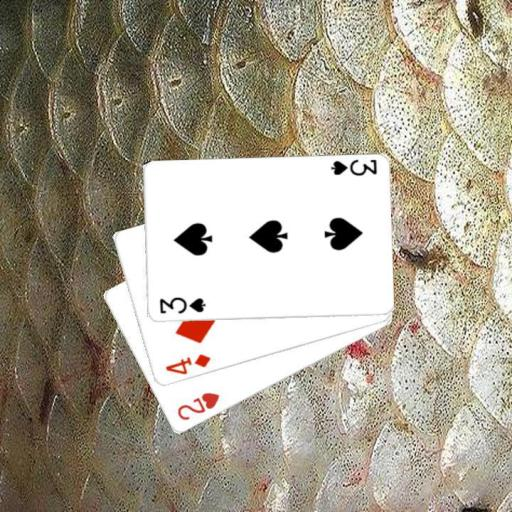2H: (174, 389, 221, 422)
3S: (327, 156, 378, 178), (156, 294, 206, 316)
4D: (162, 351, 212, 376)
